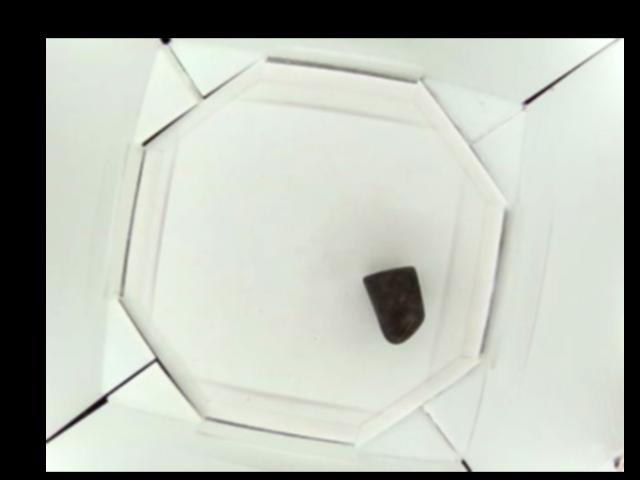Pebble: (365, 264, 424, 343)
